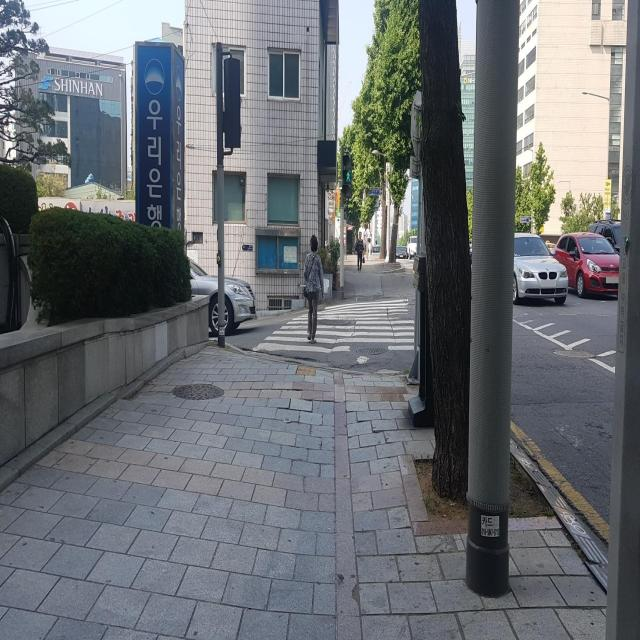횡단보도: (251, 298, 415, 356)
